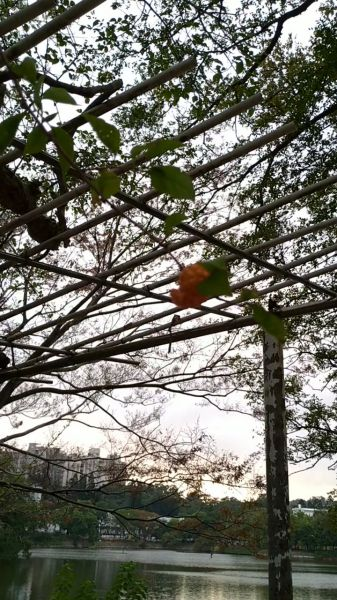eggs: (166, 257, 218, 313)
